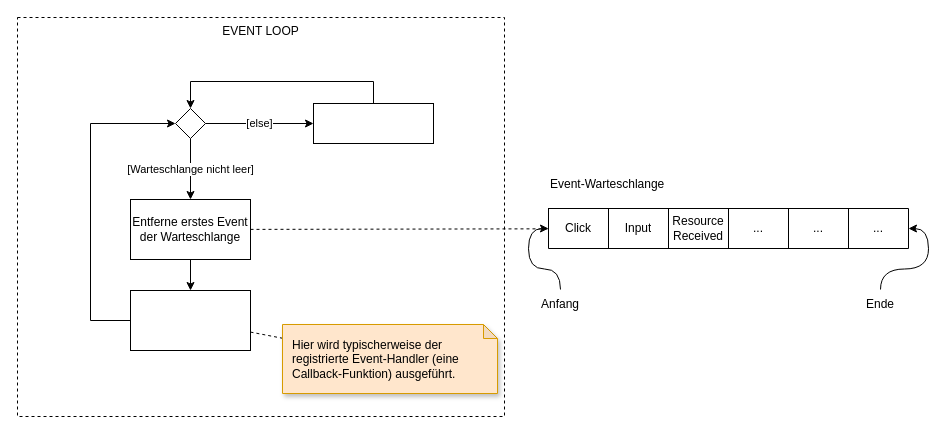
The diagram is 946 pixels wide and 434 high, and some of its shapes have lost their labels. The shapes that lost their labels are listed below. From the top down, each one's centre as x and y in pixels, then its label:
point (373, 123): Warte kurzen Moment
point (190, 320): Bearbeite entnommenes Event
